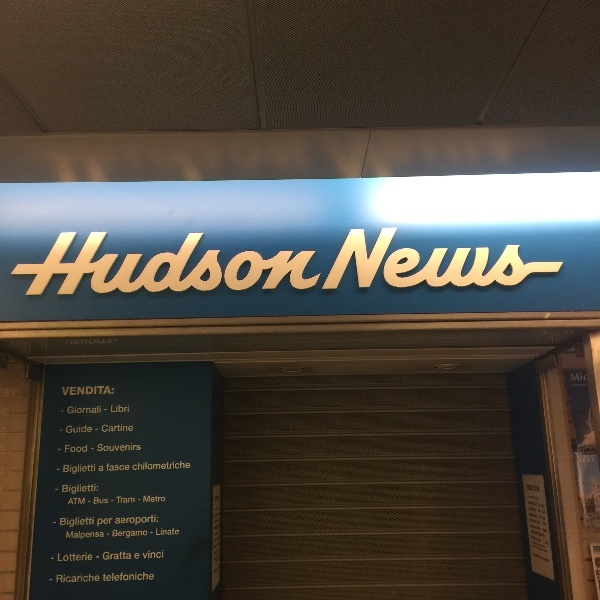text: (353, 222, 368, 297), (369, 222, 384, 297), (385, 222, 400, 297), (401, 222, 416, 297), (417, 222, 432, 297), (433, 222, 448, 297), (449, 222, 464, 297), (465, 222, 480, 297), (481, 222, 496, 297), (497, 222, 512, 297), (513, 222, 528, 297), (529, 222, 544, 297), (545, 222, 560, 297), (33, 229, 48, 298), (49, 229, 64, 298), (65, 229, 80, 298), (81, 229, 96, 298), (97, 229, 112, 298), (113, 229, 128, 298), (129, 229, 144, 298), (145, 229, 160, 298), (161, 229, 176, 298), (177, 229, 192, 298), (193, 229, 208, 298), (209, 229, 224, 298), (225, 229, 240, 298), (241, 229, 256, 298), (257, 229, 272, 298), (273, 229, 288, 298), (289, 229, 304, 298), (305, 229, 320, 298), (561, 222, 573, 297), (21, 229, 32, 298), (321, 229, 329, 298), (529, 501, 544, 526), (531, 536, 544, 554), (65, 515, 80, 529), (81, 463, 97, 476), (530, 524, 544, 538), (81, 515, 95, 529), (65, 463, 80, 476), (65, 484, 80, 496), (81, 484, 96, 496), (129, 514, 144, 526), (145, 514, 159, 526), (65, 385, 80, 396), (81, 385, 96, 396), (97, 385, 112, 396), (113, 530, 128, 541), (129, 530, 144, 541), (98, 517, 112, 528), (81, 405, 96, 415), (113, 443, 128, 453), (145, 461, 160, 471), (161, 461, 176, 471), (65, 552, 80, 562), (145, 550, 160, 560), (65, 574, 80, 584), (81, 574, 96, 584), (113, 572, 128, 582), (129, 572, 144, 582), (116, 514, 128, 526), (98, 443, 112, 453), (113, 404, 128, 413), (113, 424, 128, 433), (113, 463, 128, 472), (81, 532, 96, 541), (113, 552, 128, 561), (177, 461, 190, 471), (66, 425, 80, 434), (533, 552, 544, 563), (577, 447, 592, 455), (68, 405, 80, 415), (65, 445, 80, 453), (129, 443, 141, 453), (145, 495, 160, 503), (161, 528, 176, 536), (81, 552, 93, 562), (67, 532, 80, 541), (98, 465, 112, 473), (133, 461, 144, 471), (81, 338, 96, 345), (97, 338, 112, 345), (145, 572, 155, 582), (577, 373, 588, 382), (81, 425, 92, 434), (101, 424, 112, 433), (213, 565, 224, 574), (97, 497, 109, 505), (116, 496, 128, 504), (67, 338, 80, 345), (529, 495, 544, 501), (103, 572, 112, 582), (103, 552, 112, 561), (70, 497, 80, 505), (214, 530, 224, 538), (214, 542, 224, 550), (214, 553, 224, 561), (545, 536, 549, 554), (97, 532, 105, 541), (215, 495, 224, 503), (57, 574, 64, 584), (214, 536, 224, 543), (214, 549, 224, 556), (214, 557, 224, 564), (579, 458, 592, 463), (135, 553, 144, 560), (58, 552, 64, 562), (214, 518, 224, 524), (214, 524, 224, 530), (81, 445, 88, 453), (60, 515, 64, 529), (545, 552, 550, 563), (106, 463, 112, 472), (535, 486, 544, 492), (545, 501, 547, 526), (97, 405, 102, 415), (214, 513, 224, 518), (129, 496, 135, 504), (571, 373, 576, 382), (583, 458, 592, 463), (129, 424, 134, 433), (215, 506, 224, 511), (545, 524, 548, 538), (578, 455, 592, 458), (161, 495, 166, 503), (97, 574, 101, 584), (529, 484, 534, 491), (113, 338, 118, 345), (577, 384, 588, 387), (145, 530, 148, 541), (81, 497, 85, 505), (156, 528, 160, 536), (161, 550, 164, 560), (129, 552, 132, 561), (104, 409, 112, 412), (97, 484, 99, 496), (88, 500, 96, 503), (62, 385, 64, 396), (113, 385, 115, 396), (588, 458, 592, 463), (150, 532, 160, 534), (142, 550, 144, 560), (138, 499, 144, 502), (593, 447, 595, 455), (94, 497, 96, 505), (177, 528, 179, 536), (571, 384, 576, 387), (91, 448, 96, 451), (107, 533, 112, 536), (526, 484, 528, 491), (63, 463, 64, 476), (593, 455, 597, 458), (63, 484, 64, 496), (97, 555, 100, 559), (111, 404, 112, 413), (129, 404, 130, 413), (129, 463, 130, 472), (97, 428, 99, 431), (591, 458, 592, 463), (593, 458, 594, 463), (111, 499, 112, 503), (113, 499, 114, 503), (95, 428, 96, 431)
